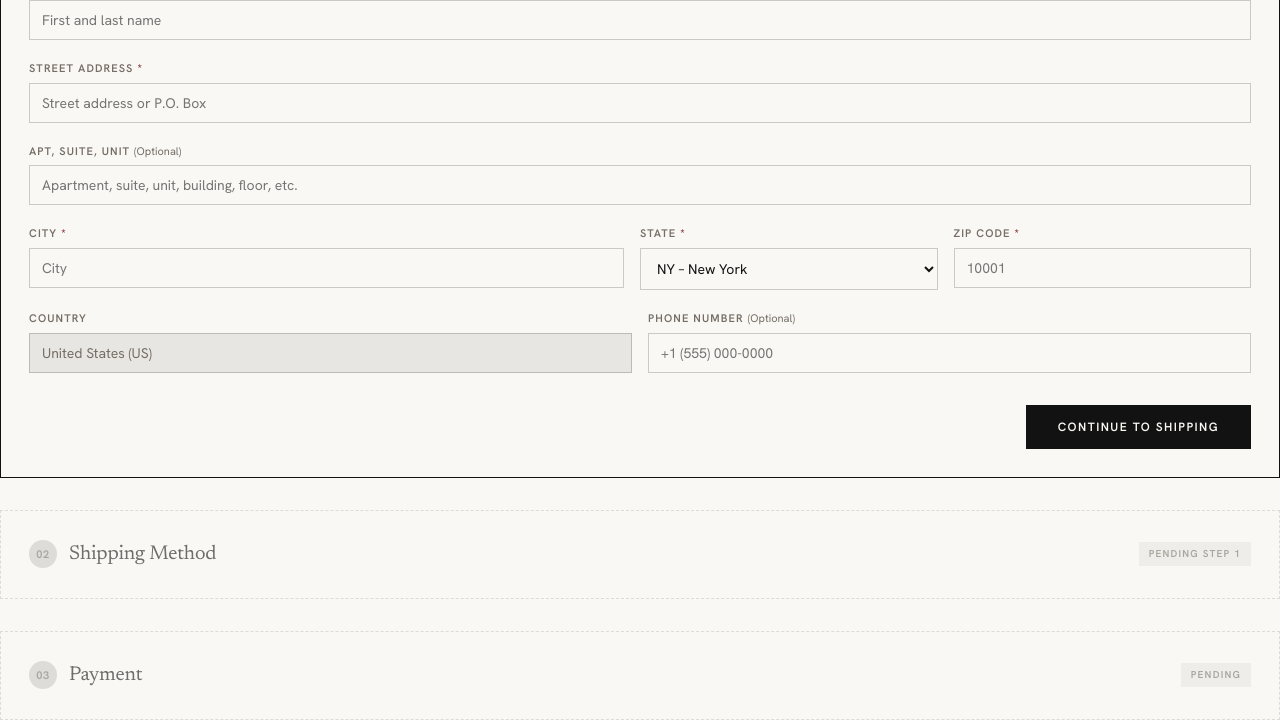
Test: ContactAndAddressForm › shows inline validation errors when submitting with empty required fields
(page scrolled)
Click the button with test id "checkout-submit-address".
click(1138, 427)  # box [1026,405,1251,449]
(page scrolled)
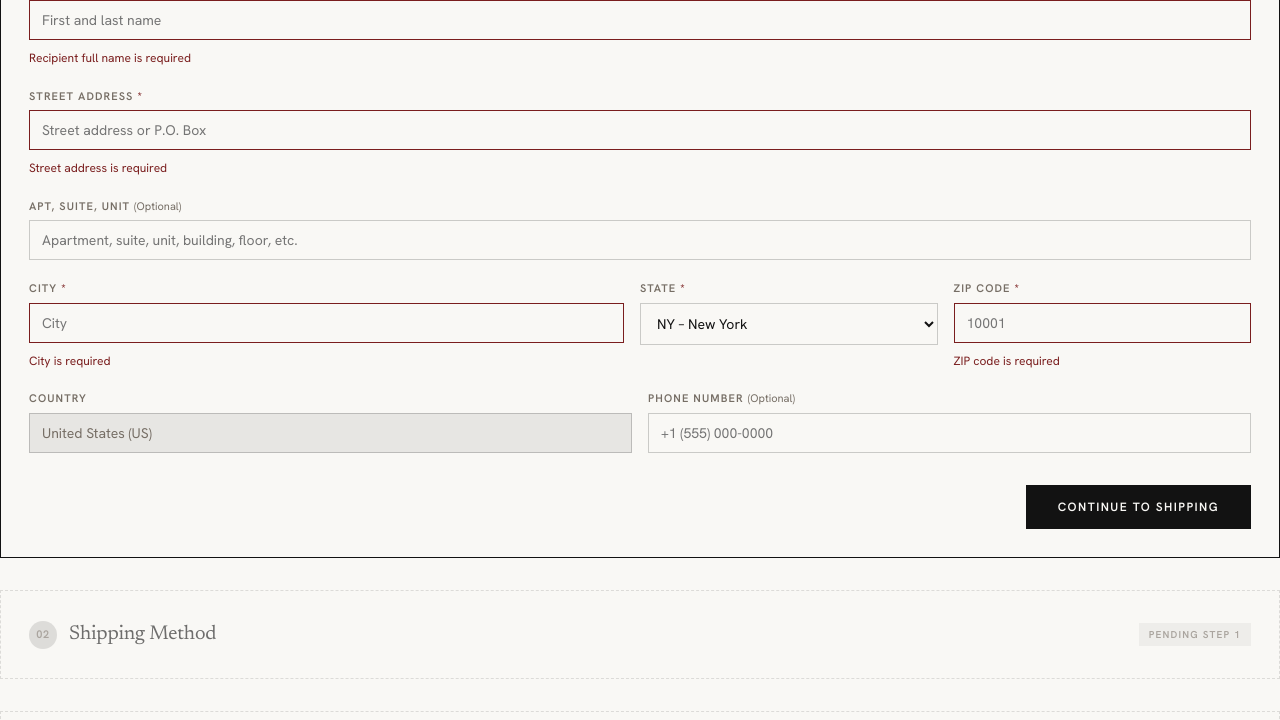
Now the message with test id "error-recipient-name" reads "Recipient full name is required", box [29,50,191,66]
Now the message with test id "error-line1" reads "Street address is required", box [29,160,167,176]
Now the message with test id "error-city" reads "City is required", box [29,353,111,369]
